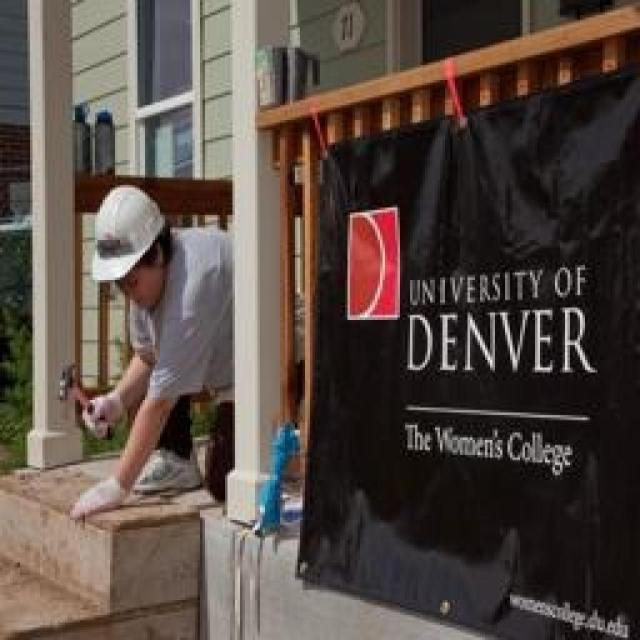Helmet: (147, 207, 252, 445), (69, 168, 165, 322)
